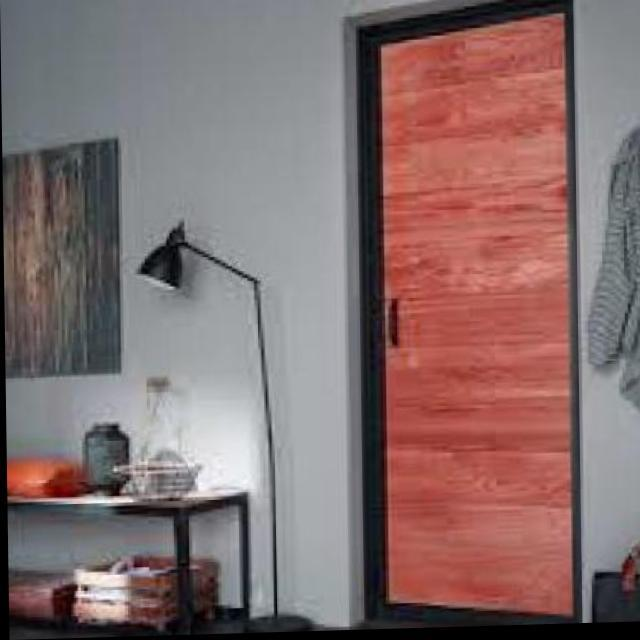door_handle: (380, 296, 409, 360)
